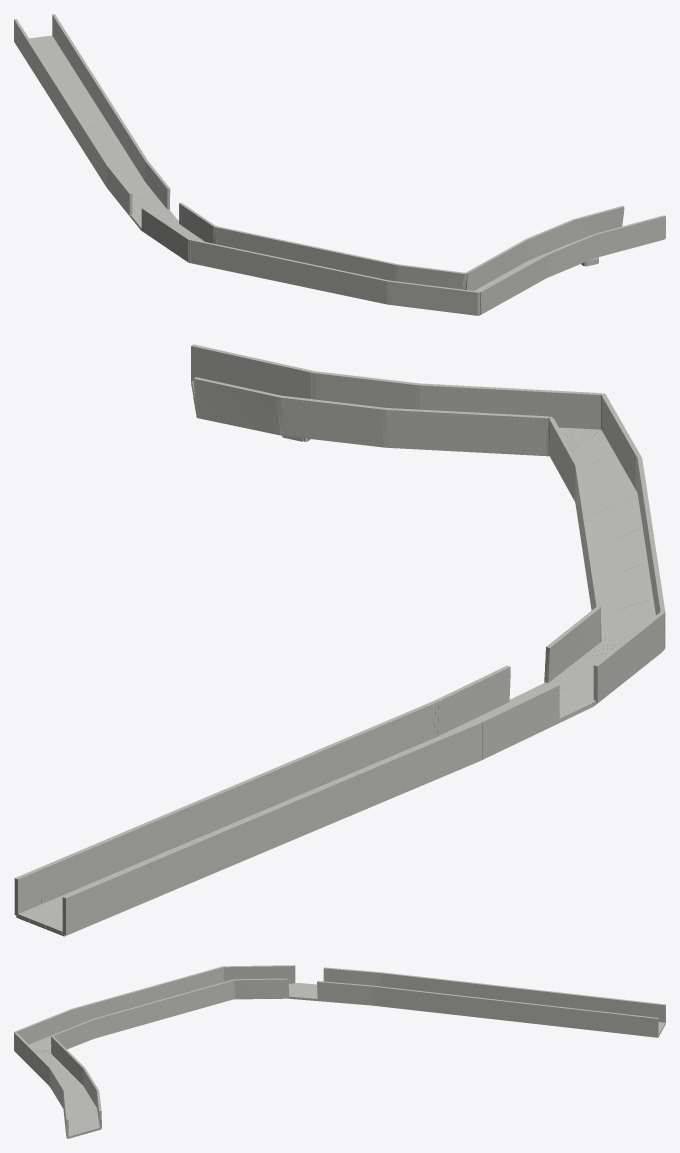
The model's file is WaterLine (2).fbx.
3 views of the same model, one above another, from view 1: azimuth 30°, elevation 25°; view 2: azimuth 150°, elevation 25°; view 3: azimuth 270°, elevation 25° (orthographic). The views are drawn at different scales.
Visible parts, largest first — view 1: Cube; view 2: Cube; view 3: Cube.
Boxes of the visible parts, x1=… form: Cube: x1=14, y1=14, x2=665, y2=315; Cube: x1=14, y1=344, x2=665, y2=936; Cube: x1=14, y1=965, x2=665, y2=1138.
Size of the model in its own units: 15608 by 1266 by 27830.
